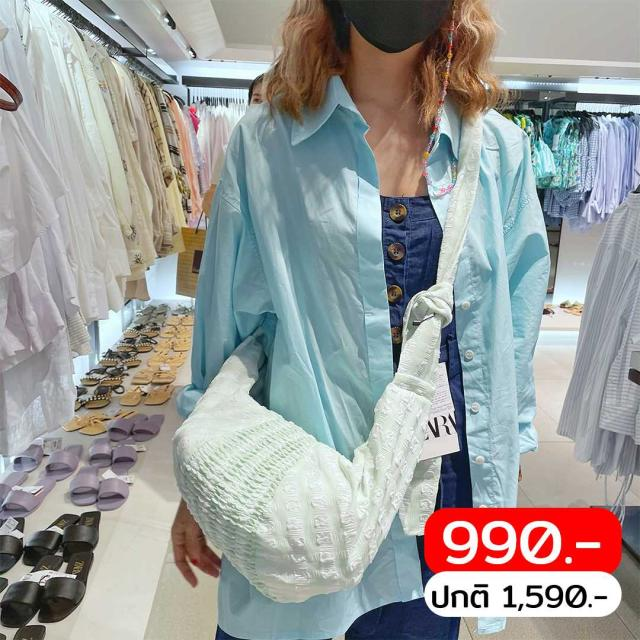Handbag: (159, 338, 451, 625)
